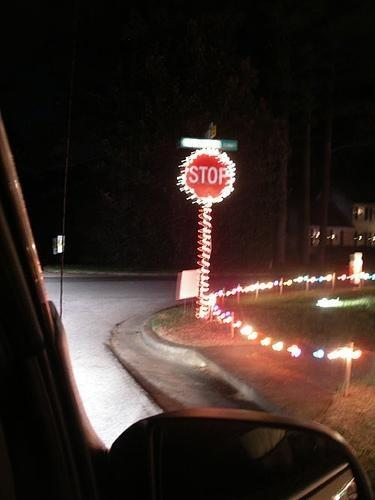car: (2, 120, 371, 489)
